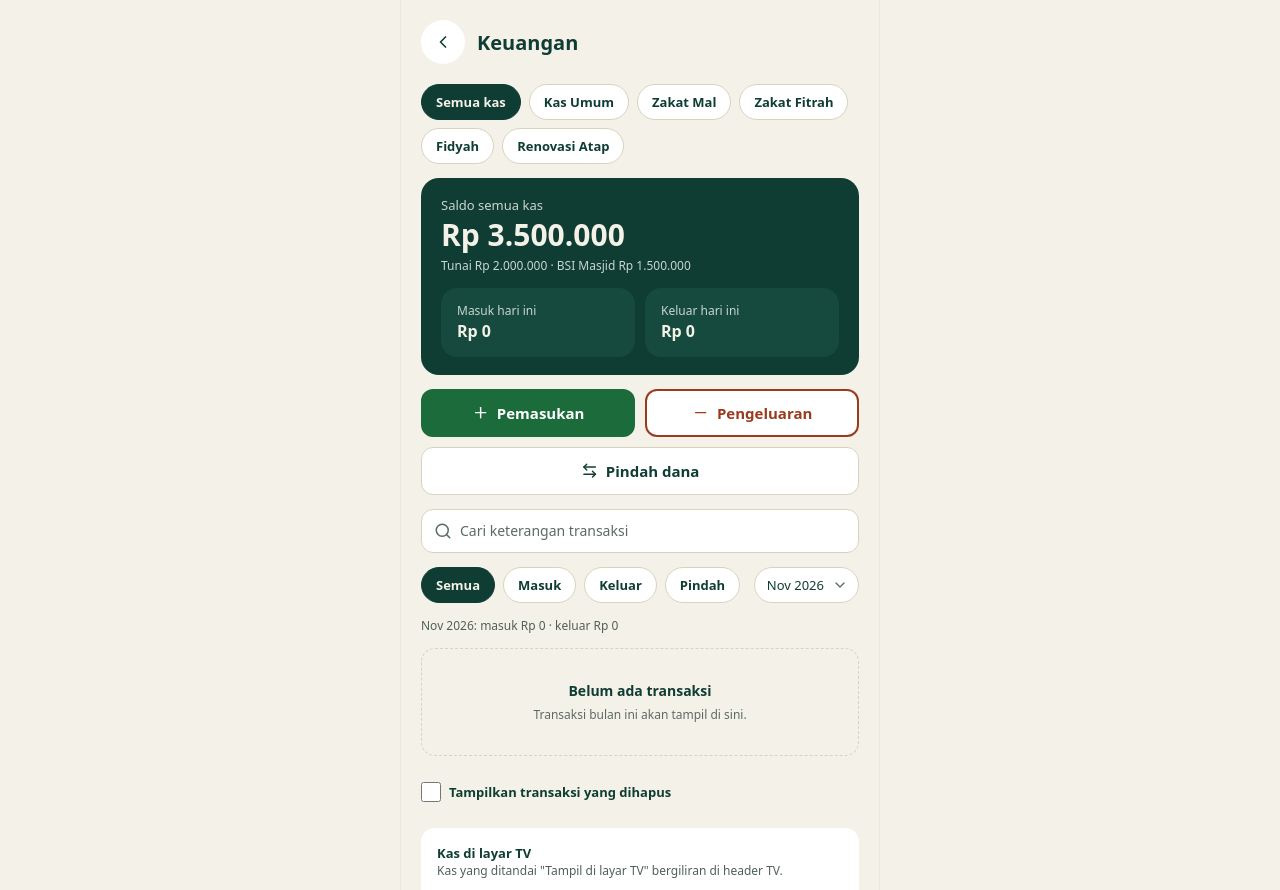
FinancePage › offers a zakat kas only setor/tarik tunai within itself
What coordinates should you click on to do the following:
click the button "Pindah dana"
I would click on:
 (640, 471)
Its box is [421, 447, 859, 495].
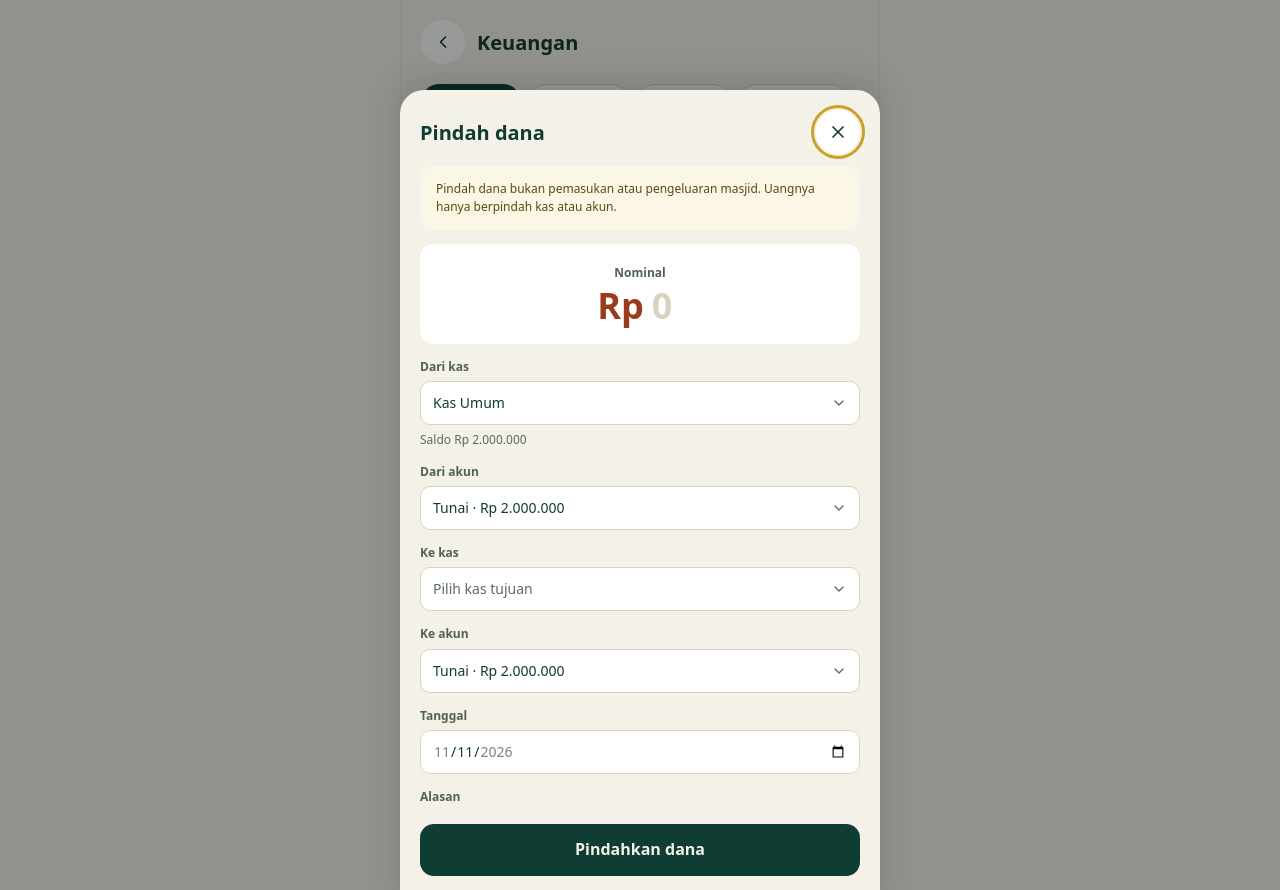
What coordinates should you click on to do the following:
click the dropdown named "Dari kas"
I would click on:
 (469, 403)
Its box is [420, 381, 860, 425].
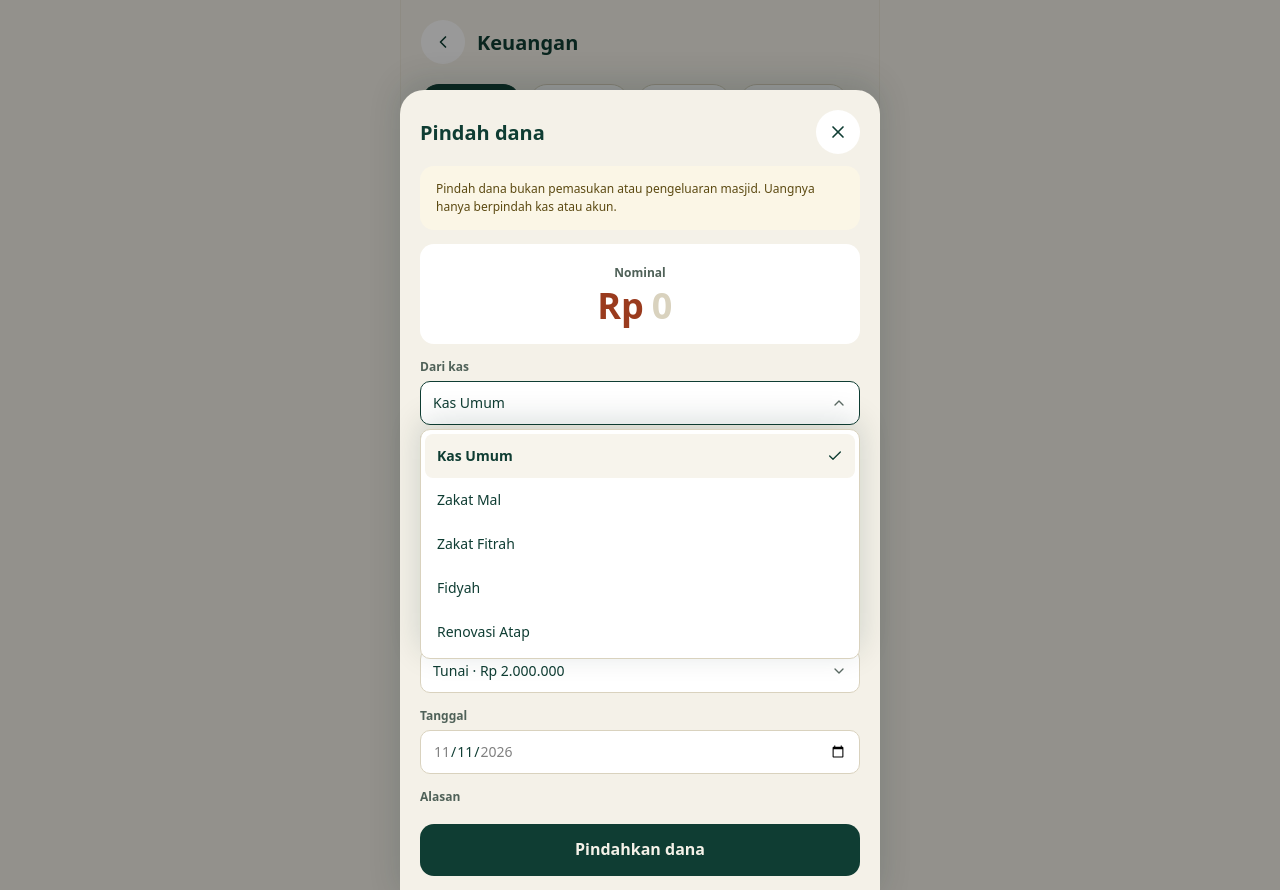
What coordinates should you click on to do the following:
click the option "Zakat Mal"
I would click on:
 (469, 500)
Its box is [437, 490, 501, 509].
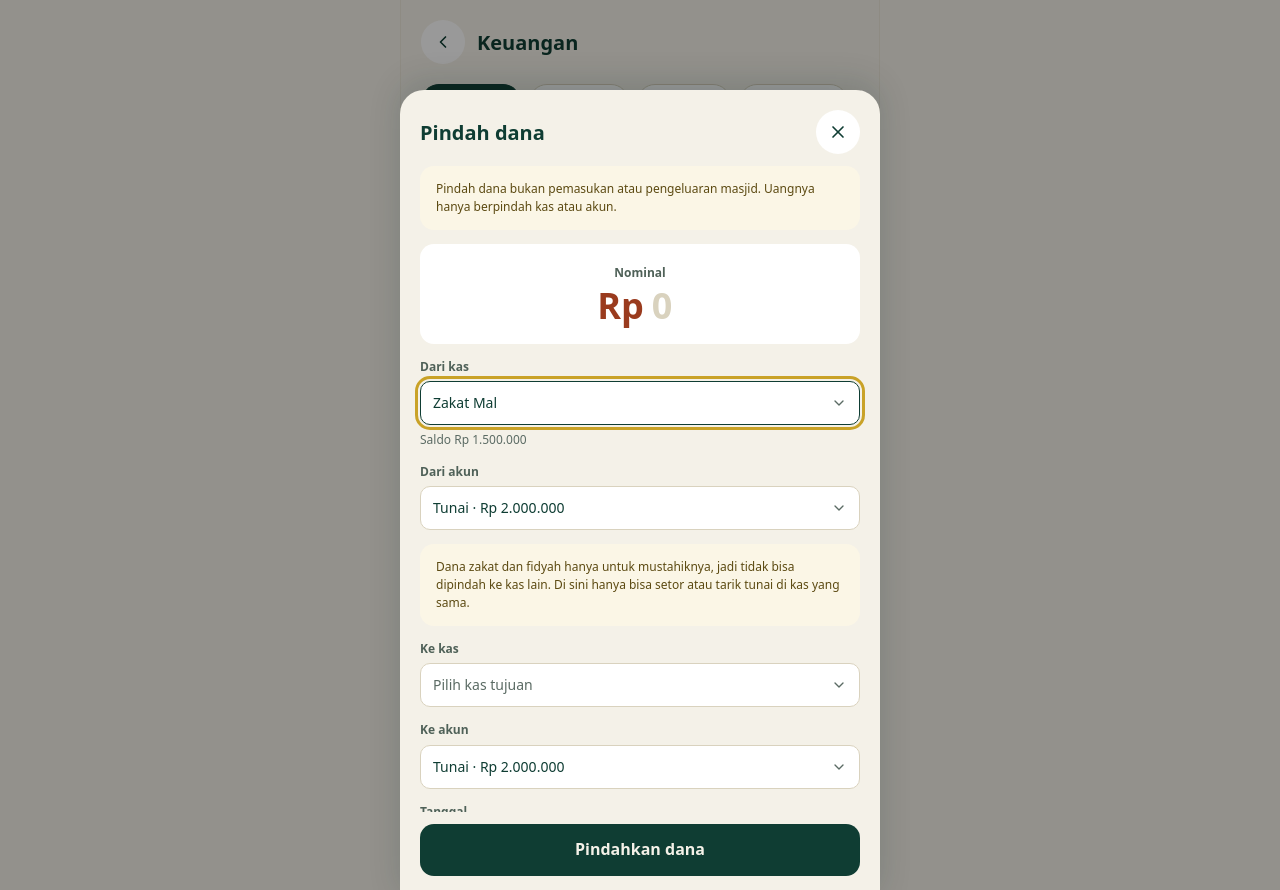
What coordinates should you click on to do the following:
click the dropdown named "Ke kas"
I would click on:
 (483, 685)
Its box is [420, 664, 860, 708].
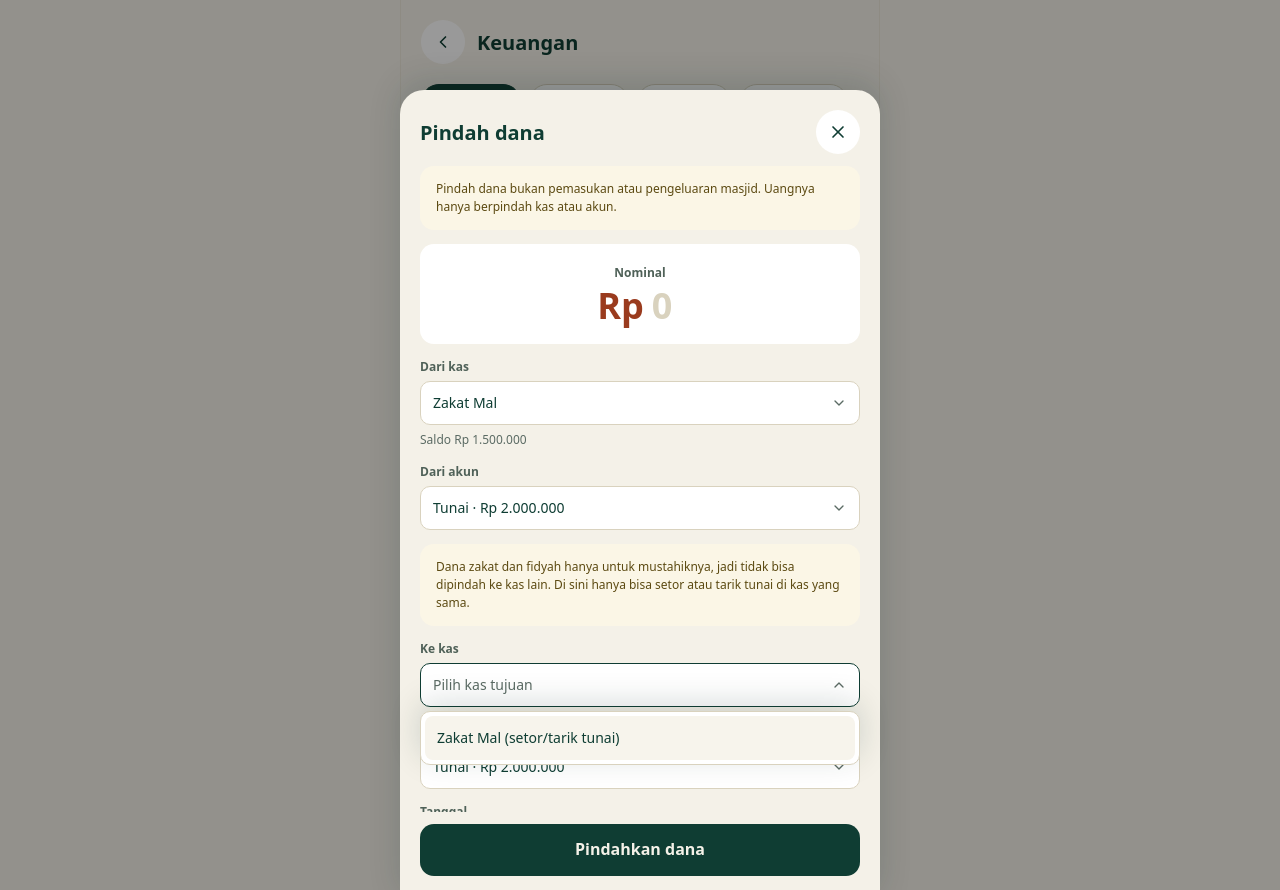
Expected: the options read "Zakat Mal (setor/tarik tunai)", in this order, [425, 716, 855, 760]
